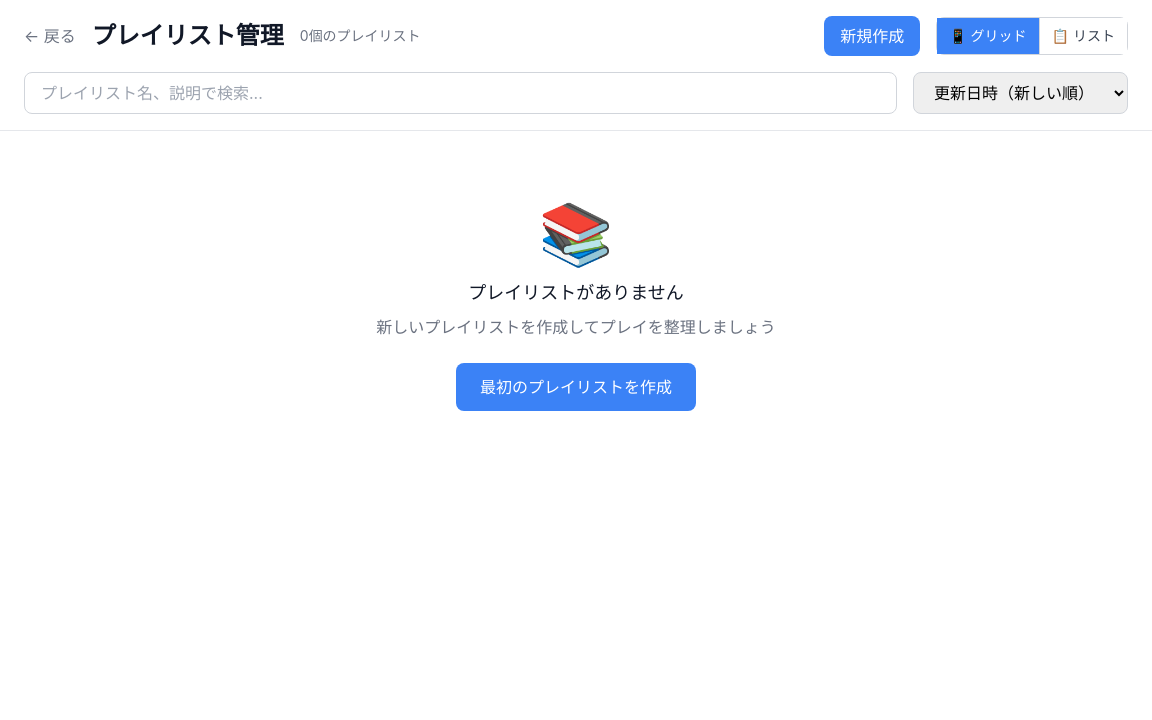
Test: PlaylistWorkspace › 空状態 › 空状態の作成ボタンが機能すること
Click the button "最初のプレイリストを作成": click(576, 387) left=456, top=363, right=696, bottom=411
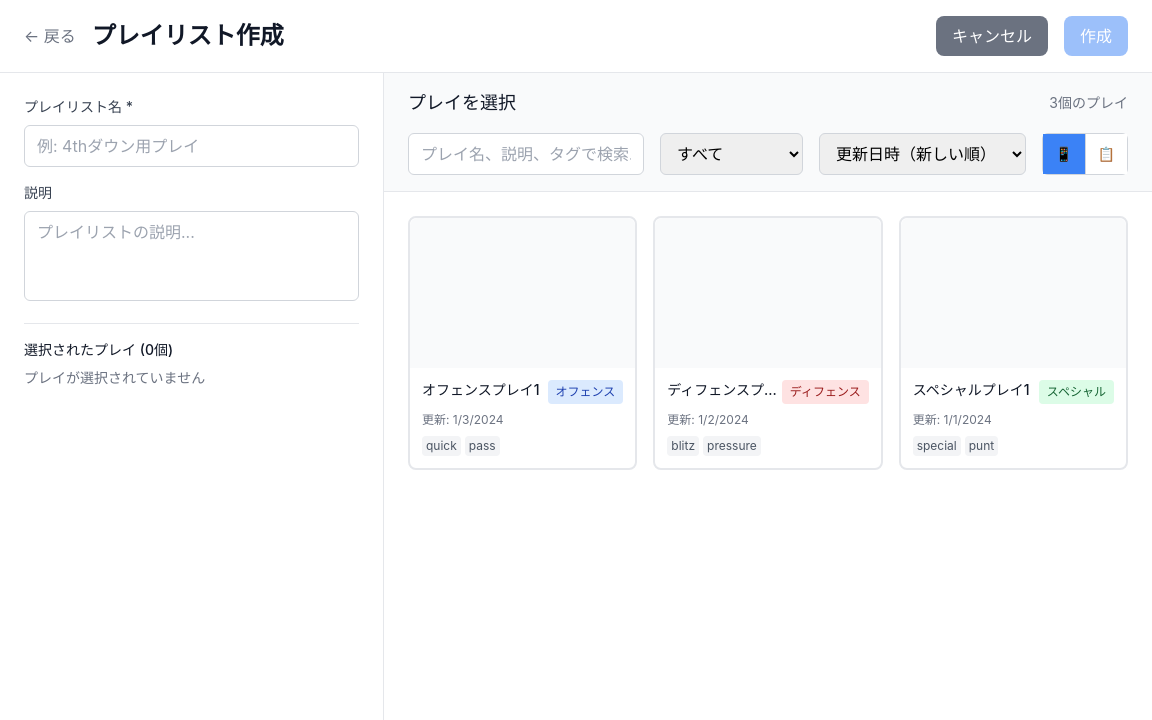
expect the heading "プレイリスト作成" is shown: met, box left=92, top=20, right=284, bottom=52
